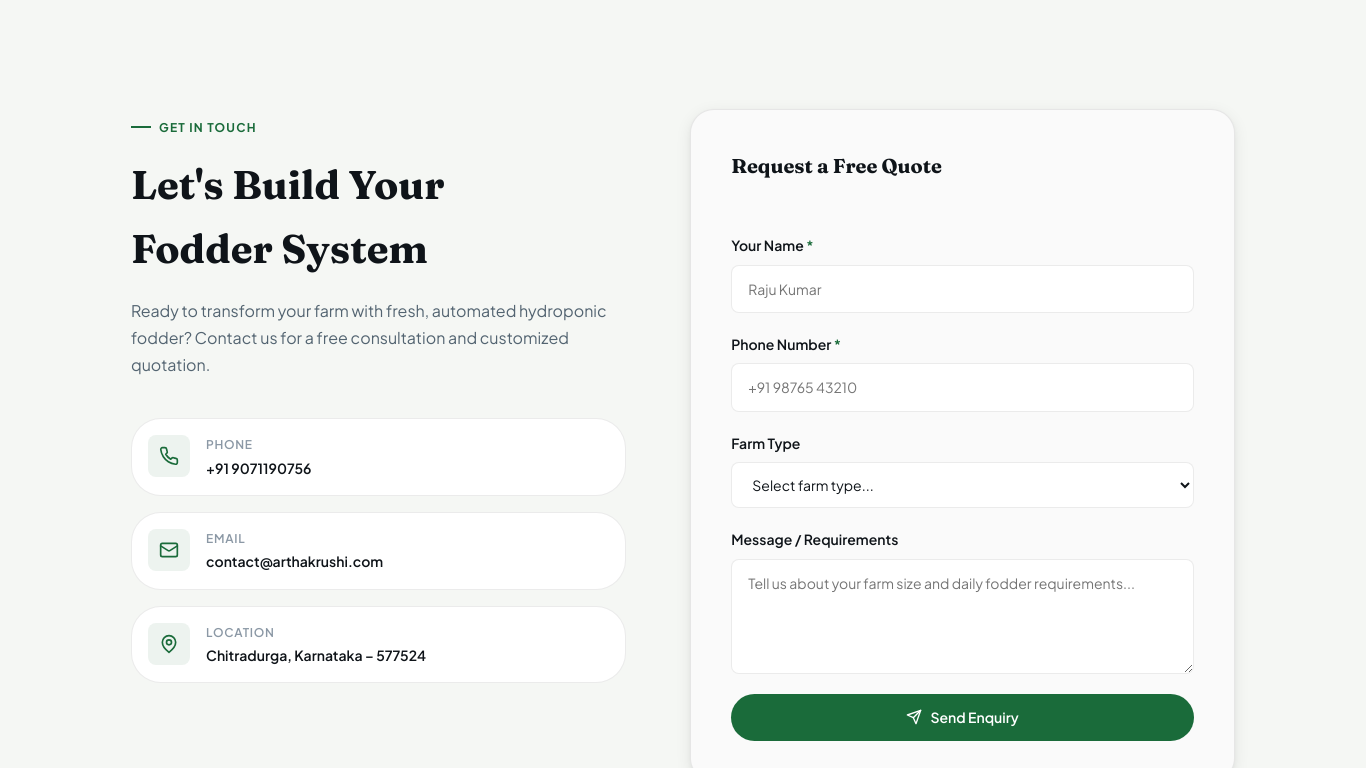
success screen shows WhatsApp message
This screenshot has width=1366, height=768.
Type "Raj" into the field labelled "Your Name *" at x=963, y=289, box top-left (731, 265), bottom-right (1194, 313)
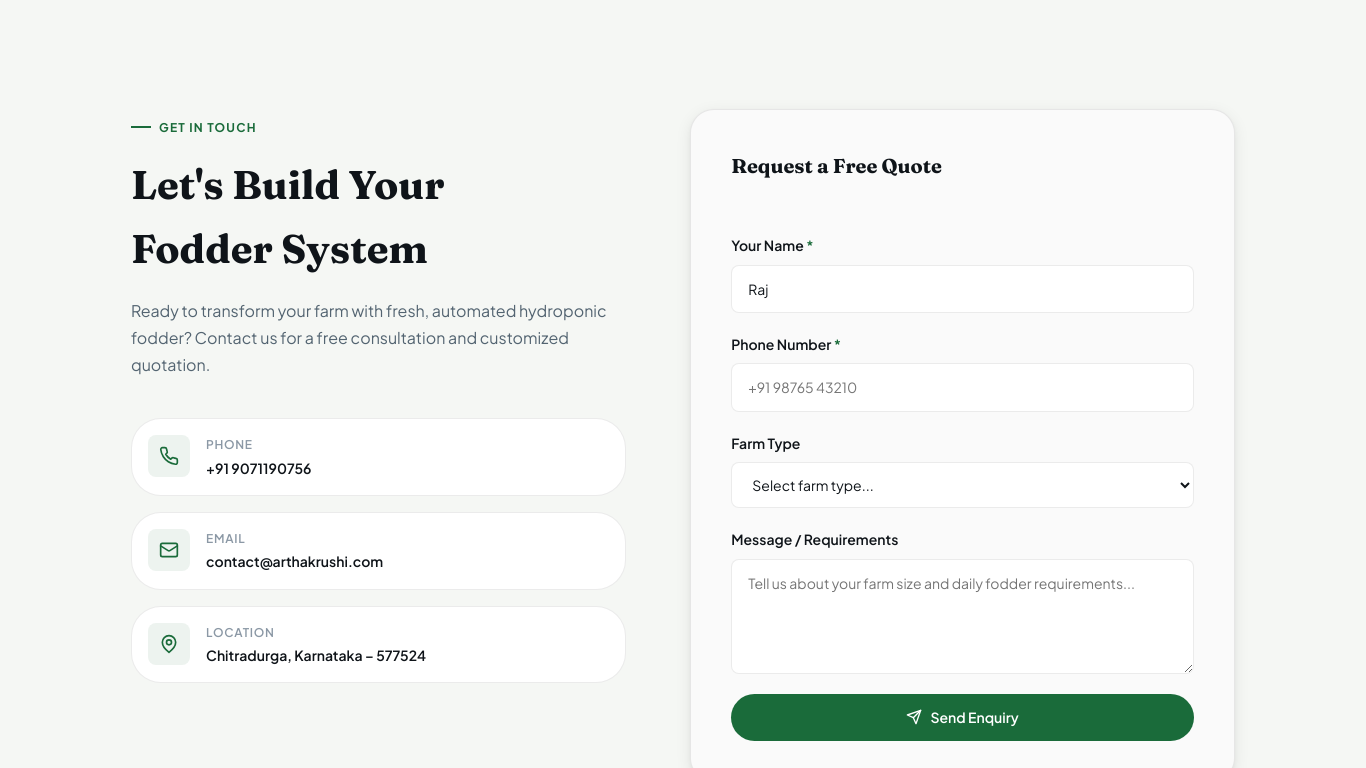
Type "1234567890" into the field labelled "Phone Number *" at x=963, y=388, box top-left (731, 363), bottom-right (1194, 412)
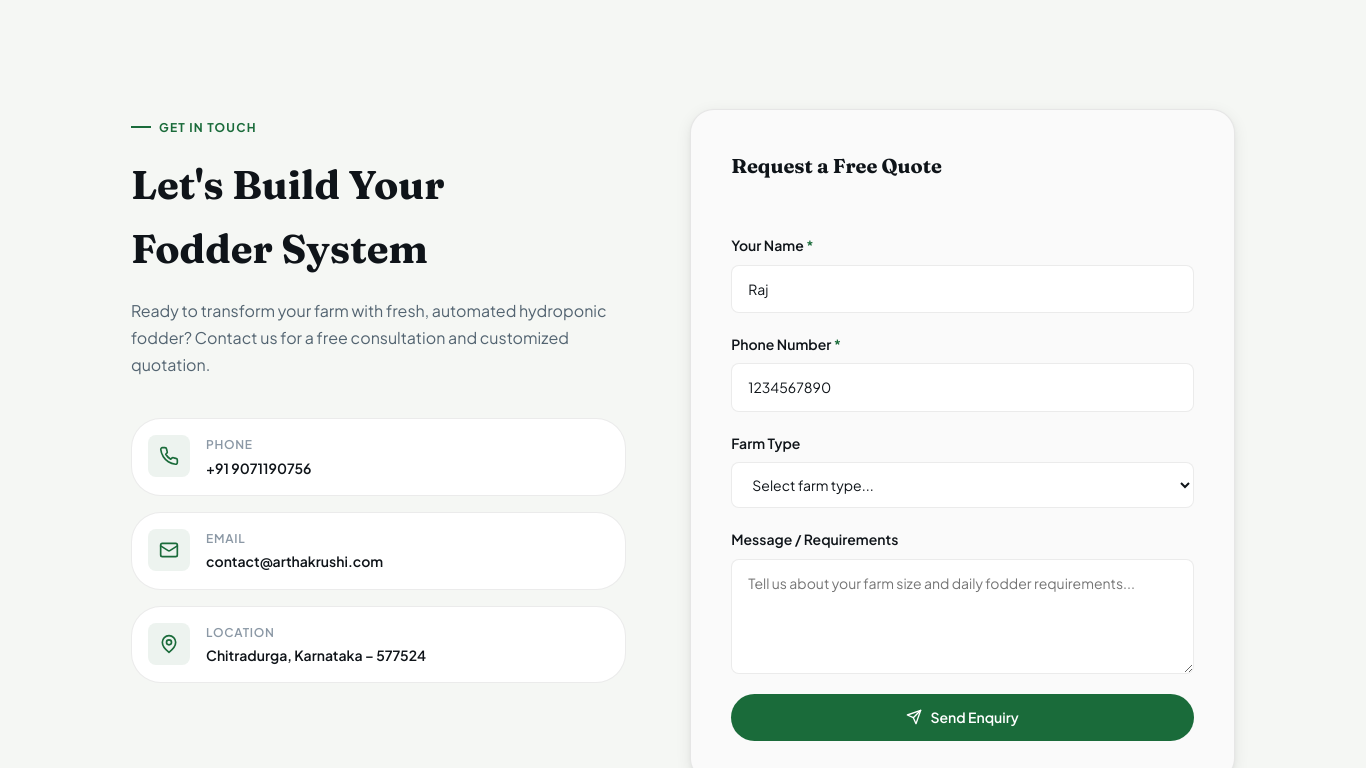
Click the button "Send Enquiry" at x=963, y=717, box top-left (731, 694), bottom-right (1194, 741)
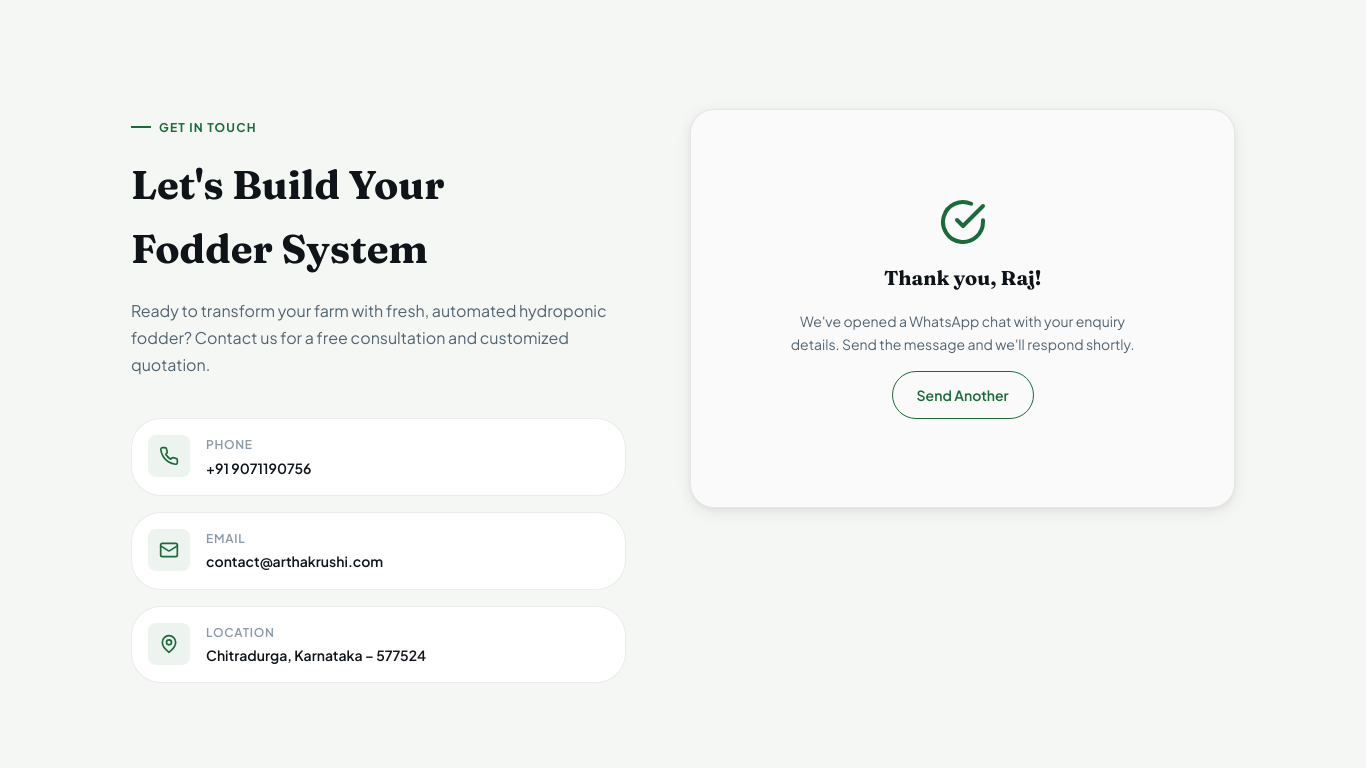
Expected: the text "WhatsApp chat" is shown, top-left (791, 312), bottom-right (1134, 353)
